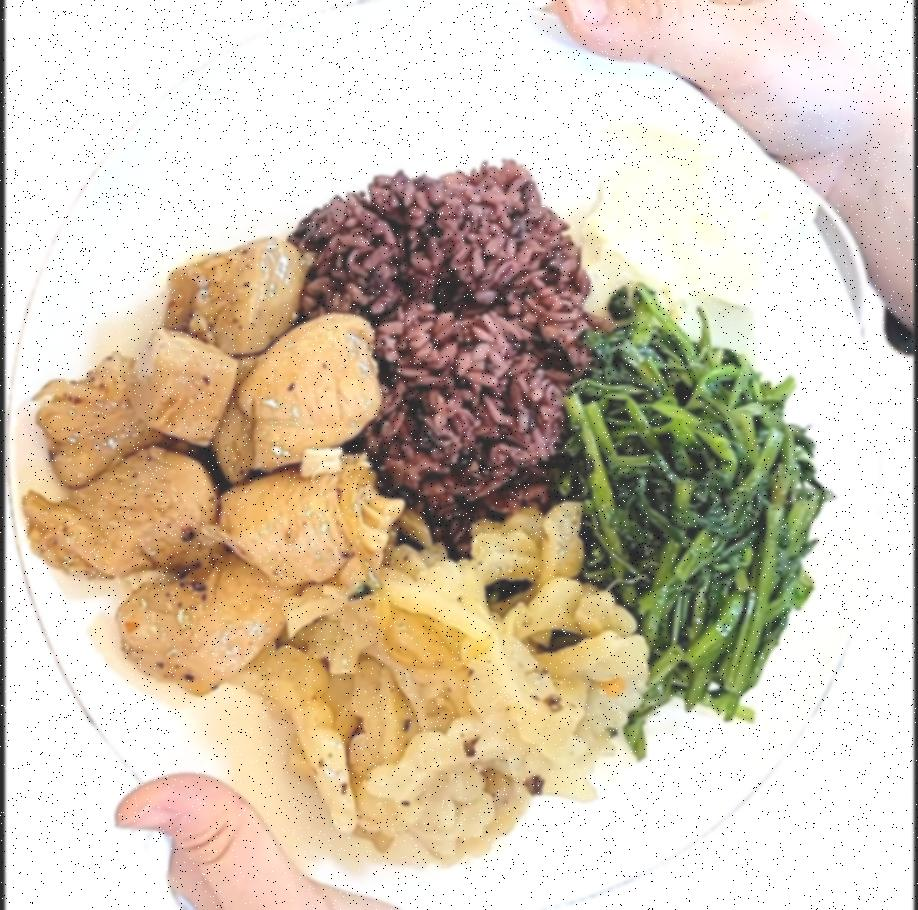big fried chicken leg: (7, 4, 894, 910)
braised fish: (294, 151, 600, 520)
braised fish fillet: (252, 504, 660, 869), (558, 298, 839, 729), (586, 144, 838, 300)
braised pork: (23, 226, 394, 701)
